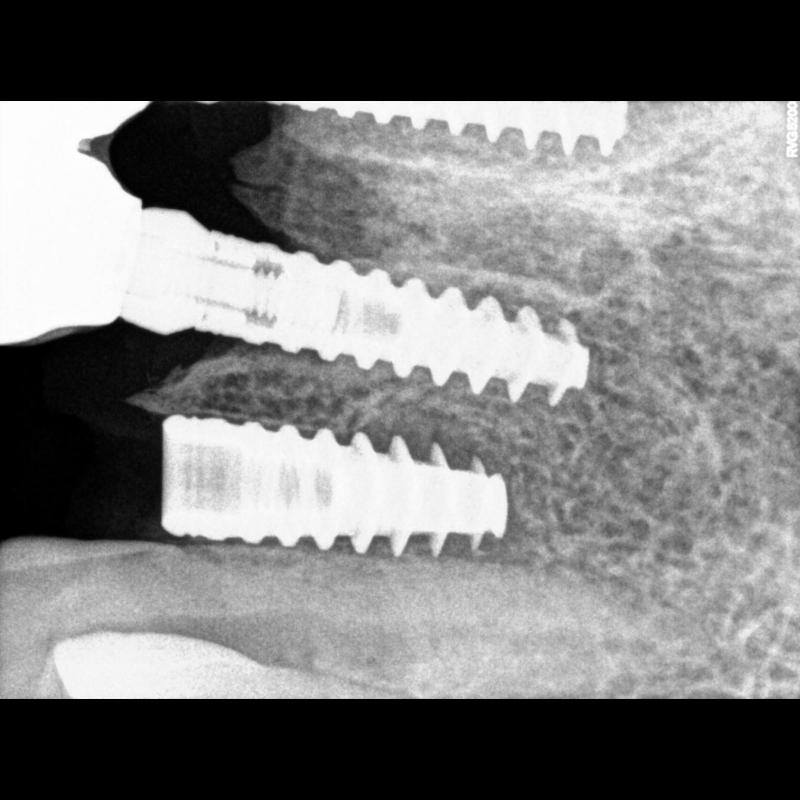ADIN: (209, 213, 598, 411), (161, 404, 507, 562)
